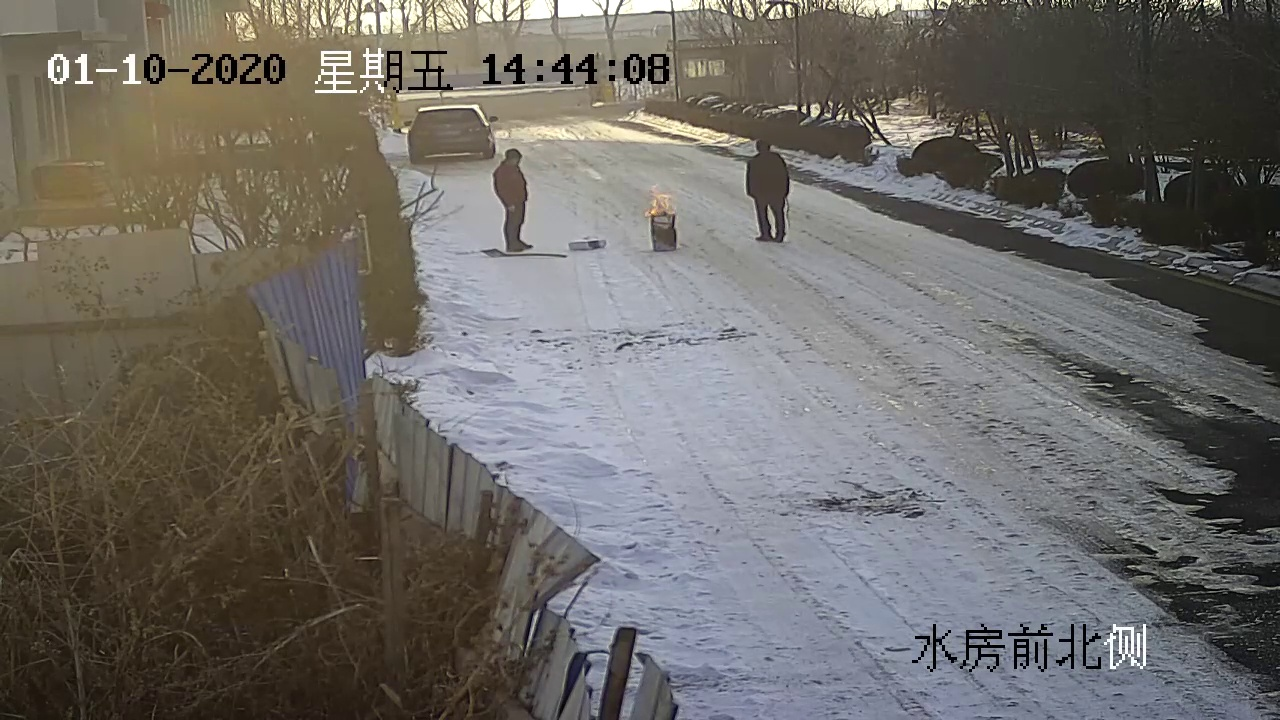fire: (644, 183, 671, 212)
